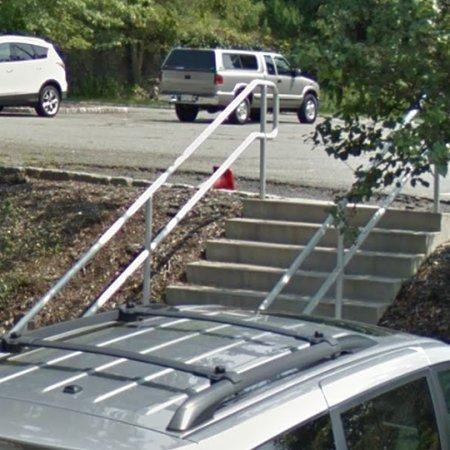stairs: (167, 198, 333, 310), (344, 208, 450, 324), (271, 227, 337, 314)
